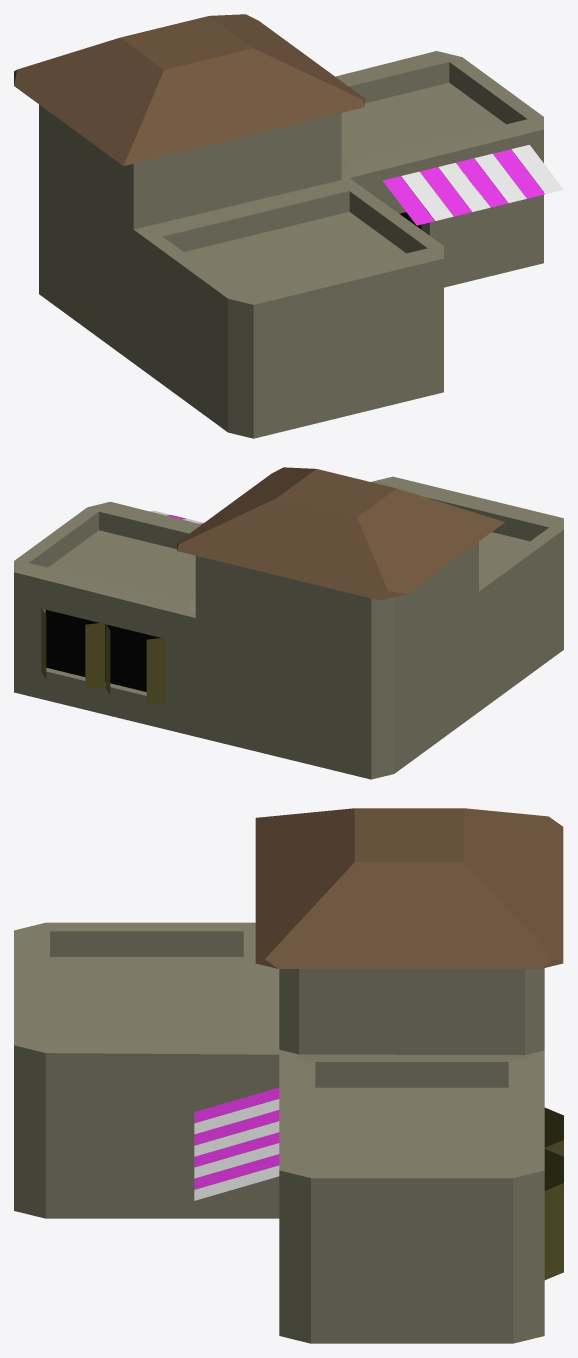
File: deserthouse2.glb
3 views of the same model, one above another, from view 1: azimuth 30°, elevation 25°; view 2: azimuth 150°, elevation 25°; view 3: azimuth 270°, elevation 25° (orthographic). The views are drawn at different scales.
Visible parts, largest first — view 1: Plane.005, Plane.007, Plane.008, Plane.009; view 2: Plane.005, Plane.007, Plane.010, Plane.013; view 3: Plane.005, Plane.007, Plane.009, Plane.008, Plane.013.
Boxes of the visible parts, bbox=[...] form: Plane.005: bbox=[39, 51, 543, 438]; Plane.007: bbox=[14, 14, 364, 165]; Plane.008: bbox=[383, 149, 544, 225]; Plane.009: bbox=[401, 144, 563, 220]; Plane.005: bbox=[14, 476, 563, 779]; Plane.007: bbox=[177, 467, 504, 600]; Plane.010: bbox=[45, 610, 160, 691]; Plane.013: bbox=[41, 607, 165, 704]; Plane.005: bbox=[14, 922, 544, 1343]; Plane.007: bbox=[255, 808, 563, 968]; Plane.009: bbox=[194, 1099, 279, 1200]; Plane.008: bbox=[194, 1087, 279, 1189]; Plane.013: bbox=[544, 1107, 563, 1279].
Size of the model in its own units: 48.41 by 26.76 by 42.09.
